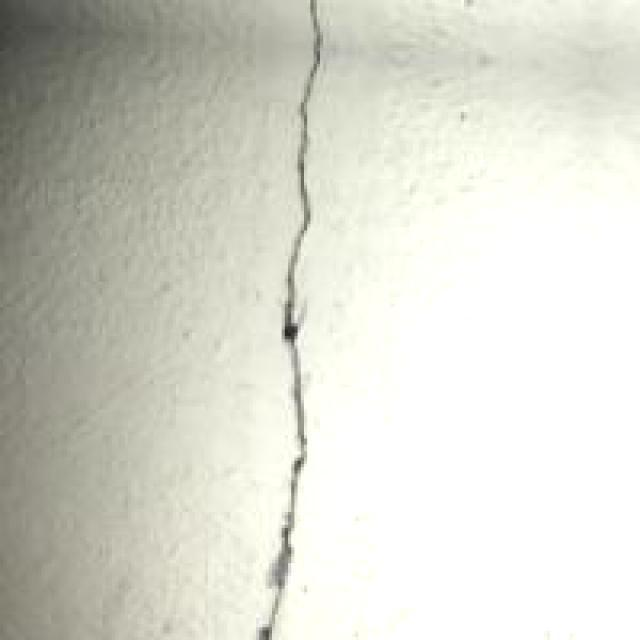crack: (238, 0, 346, 640)
